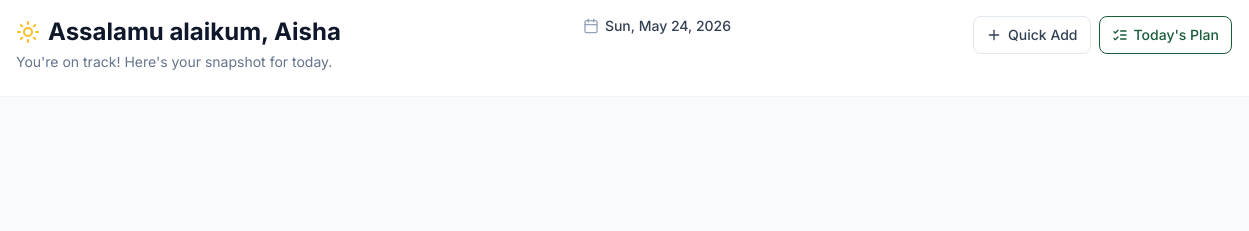
DashboardHeader › Quick Add menu opens with titled panel and action links
Click the button "Quick Add".
click(1032, 35)  # box left=973, top=16, right=1090, bottom=54
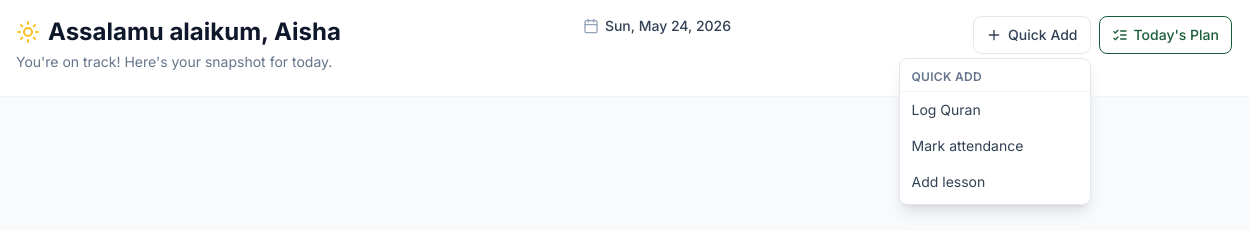
Now the menu with test id "quick-add-menu" is shown, box left=898, top=58, right=1090, bottom=205
Now the text "Quick Add" is shown, box left=900, top=63, right=1090, bottom=92
